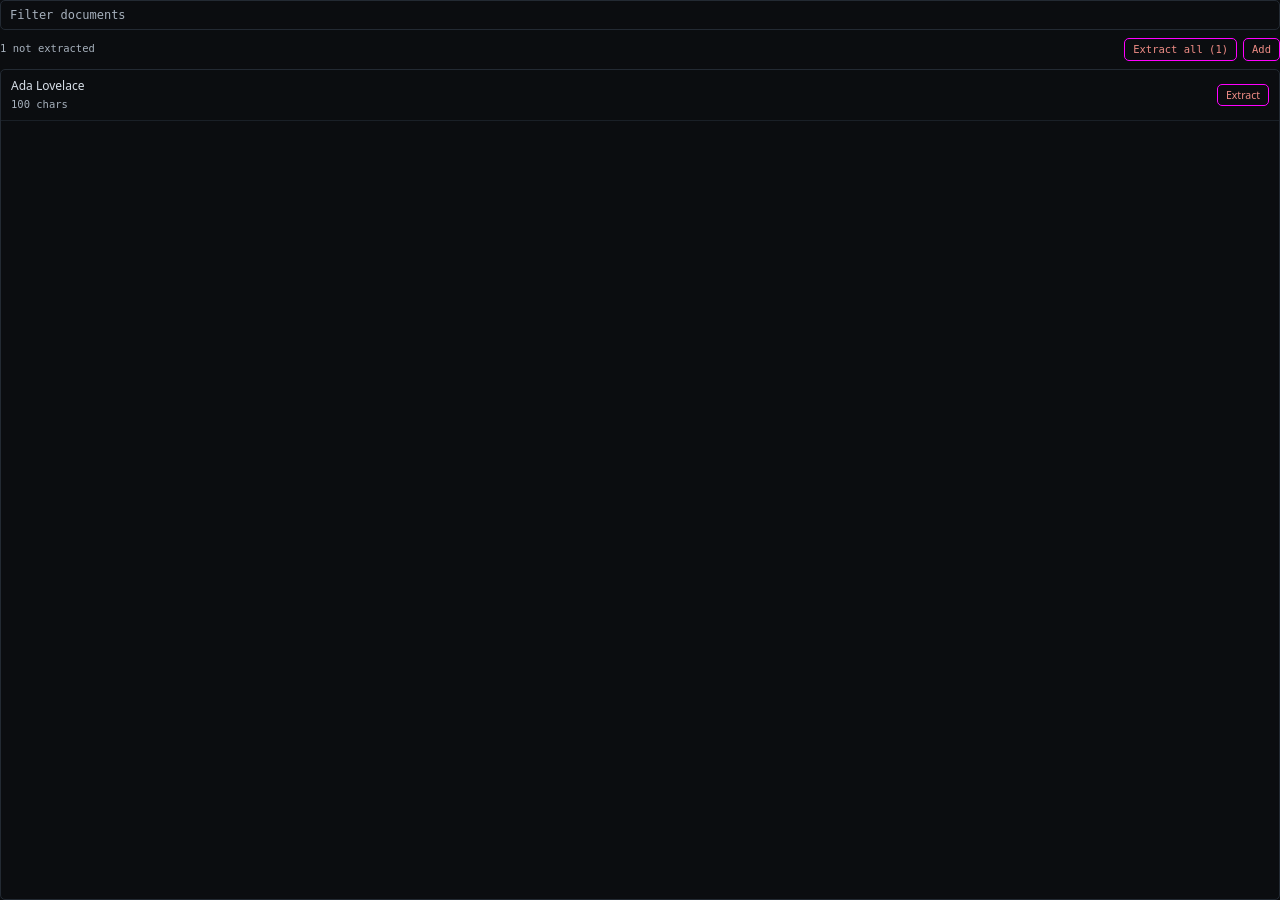
opens a document over the page rather than below the list
The image size is (1280, 900).
Step 1. Click the button "Ada Lovelace 100 chars" → (48, 85), box [1,70,1211,120]
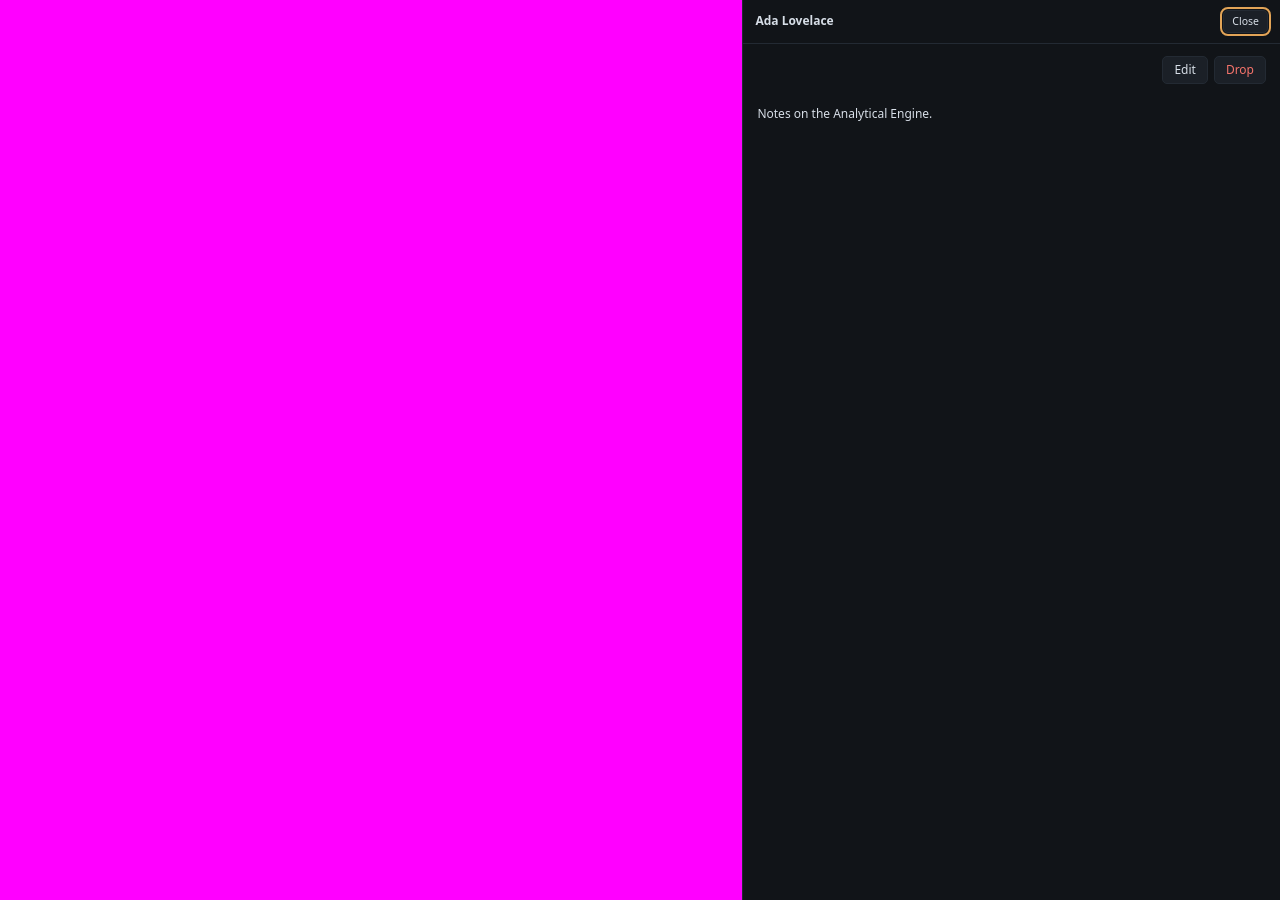
Expected: the text "Notes on the Analytical Engine." is shown, [757,106,932,122]
